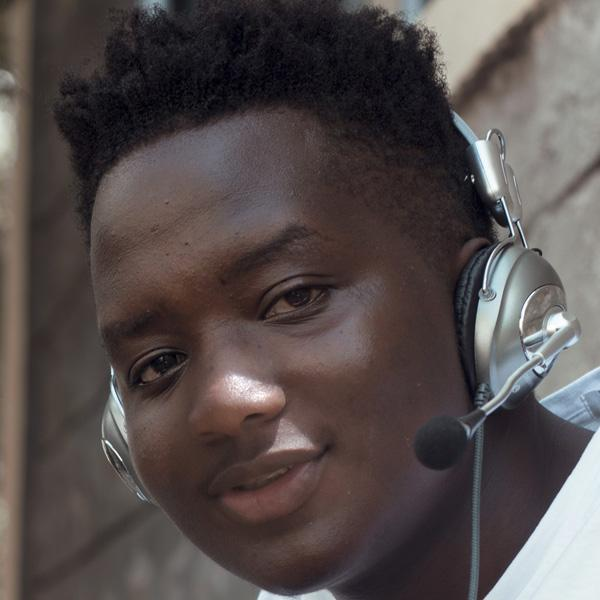Eyes: (255, 263, 344, 329), (125, 333, 199, 395)
